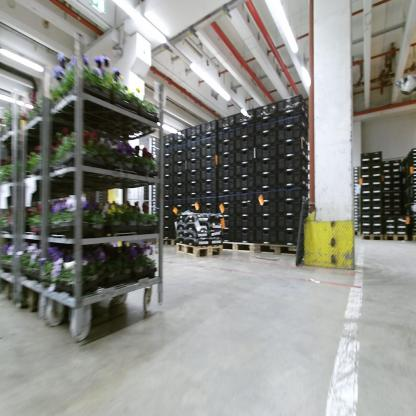pallet: (174, 238, 224, 260), (255, 240, 306, 257), (219, 235, 255, 257), (383, 232, 408, 245), (362, 233, 383, 241), (159, 237, 175, 247), (354, 229, 364, 237)
